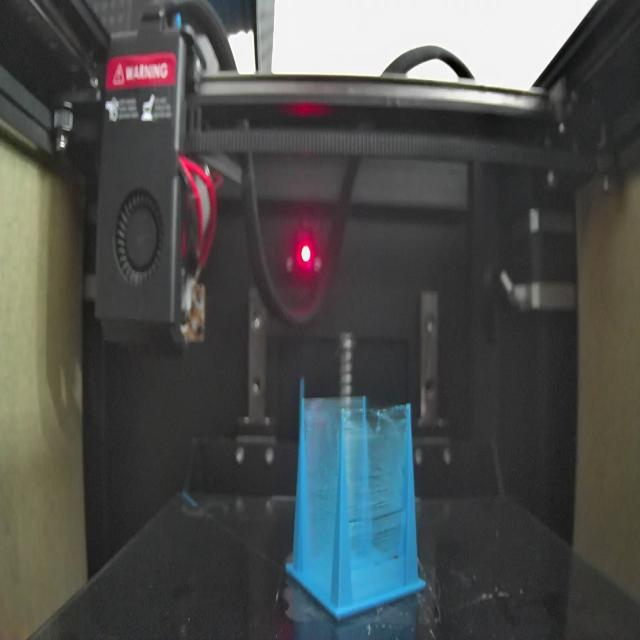stringing: (346, 412, 411, 599), (304, 396, 340, 604)
